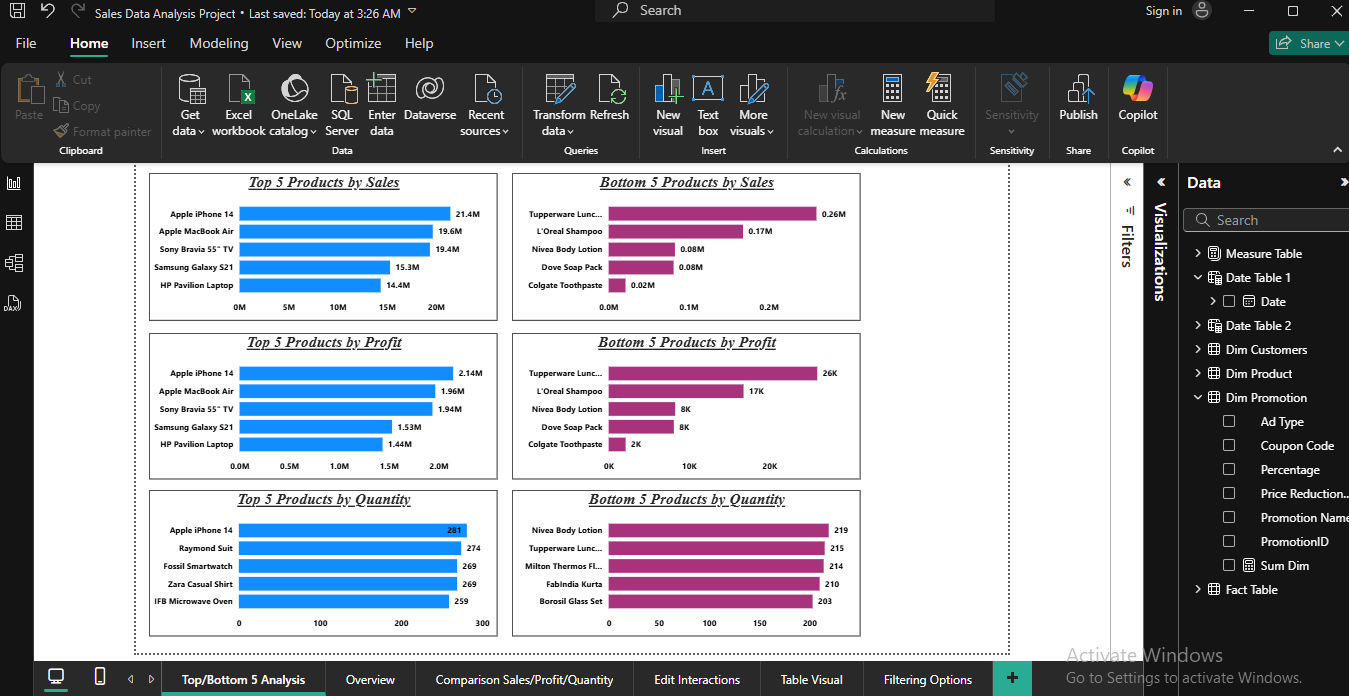

Layout of this report page (visuals, bound fields, positions):
{"tool":"powerbi","page":{"name":"Top/Bottom 5 Analysis","canvas":[1280,720],"ordinal":0},"visuals":[{"type":"barChart","title":"Top 5 Products by Sales","fields":{"Y":["Sum(Fact Table.Net Sales)"],"Category":["Dim Product.Product Name"]},"box":[18.5,15.1,512.3,216.7],"z":0},{"type":"barChart","title":"Top 5 Products by Profit","fields":{"Y":["Sum(Fact Table.Profit)"],"Category":["Dim Product.Product Name"]},"box":[18.5,250.3,512.3,215],"z":1000},{"type":"barChart","title":"Bottom 5 Products by Sales","fields":{"Y":["Sum(Fact Table.Net Sales)"],"Category":["Dim Product.Product Name"]},"box":[552.7,15.1,512.3,216.7],"z":2000},{"type":"barChart","title":"Bottom 5 Products by Profit","fields":{"Y":["Sum(Fact Table.Profit)"],"Category":["Dim Product.Product Name"]},"box":[552.7,250.3,512.3,215],"z":3000},{"type":"barChart","title":"Top 5 Products by Quantity","fields":{"Category":["Dim Product.Product Name"],"Y":["Sum(Fact Table.Units Sold)"]},"box":[18.5,480.4,512.3,215],"z":4000},{"type":"barChart","title":"Bottom 5 Products by Quantity","fields":{"Category":["Dim Product.Product Name"],"Y":["Sum(Fact Table.Units Sold)"]},"box":[552.7,480.4,512.3,215],"z":5000}]}

Visuals, with their boxes on the page's 1280x720 design canvas (x1, y1, x2, y2). These are canvas units, not pixel positions in the 1349x696 screenshot, which may show the page scaled, cropped or inside an application window:
"Top 5 Products by Sales" barChart: [18, 15, 531, 232]
"Top 5 Products by Profit" barChart: [18, 250, 531, 465]
"Bottom 5 Products by Sales" barChart: [553, 15, 1065, 232]
"Bottom 5 Products by Profit" barChart: [553, 250, 1065, 465]
"Top 5 Products by Quantity" barChart: [18, 480, 531, 695]
"Bottom 5 Products by Quantity" barChart: [553, 480, 1065, 695]
